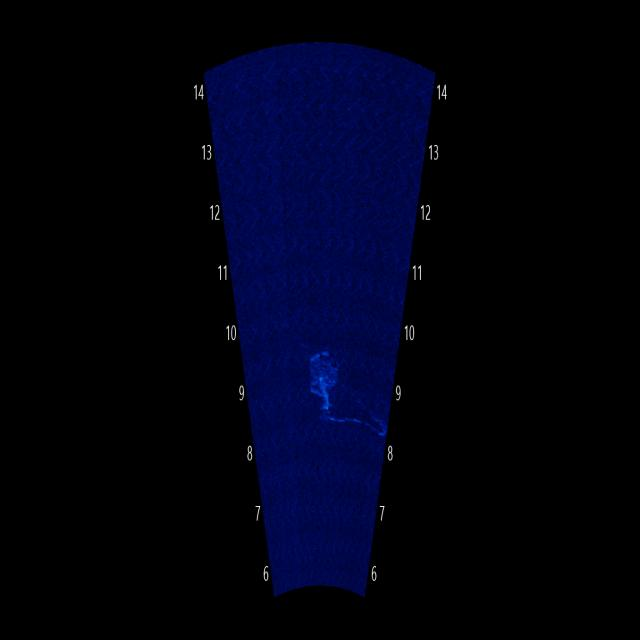circle: (303, 329, 346, 418)
